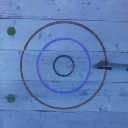Axe Tip: (92, 65, 104, 68)
